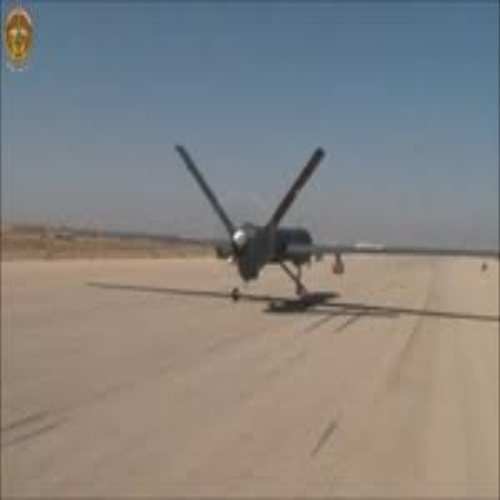uav: (68, 139, 495, 304)
